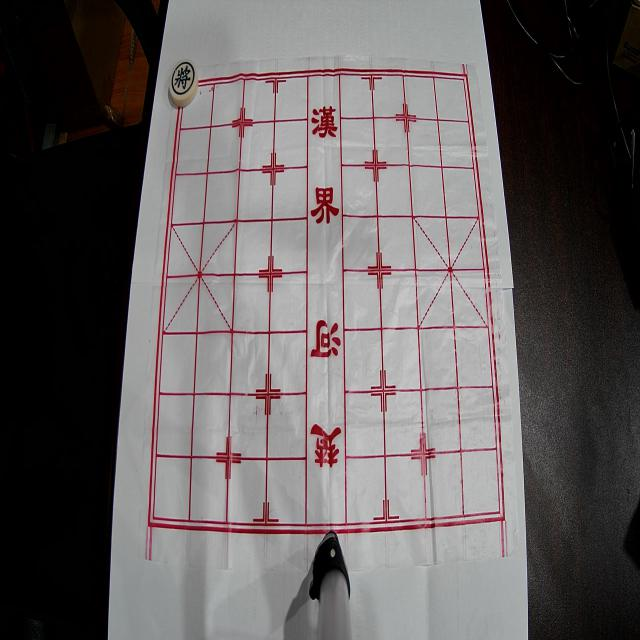black-general: (170, 59, 198, 107)
